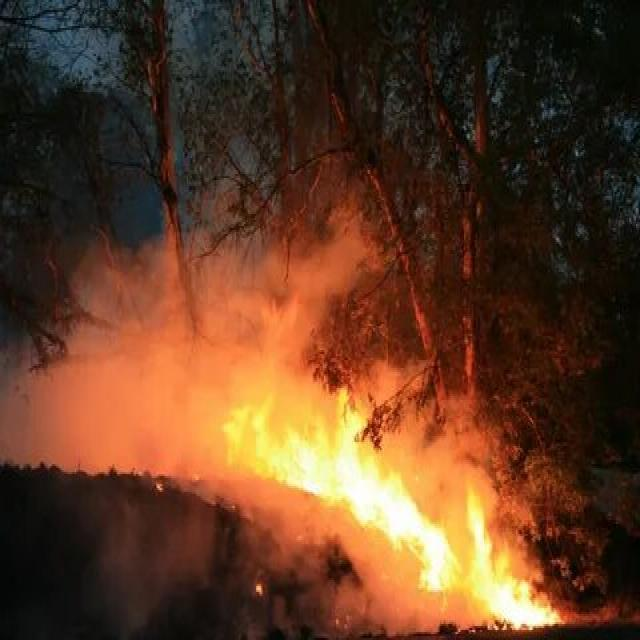Fire: (360, 454, 584, 640), (196, 362, 409, 538)
Smoke: (14, 226, 229, 497)
